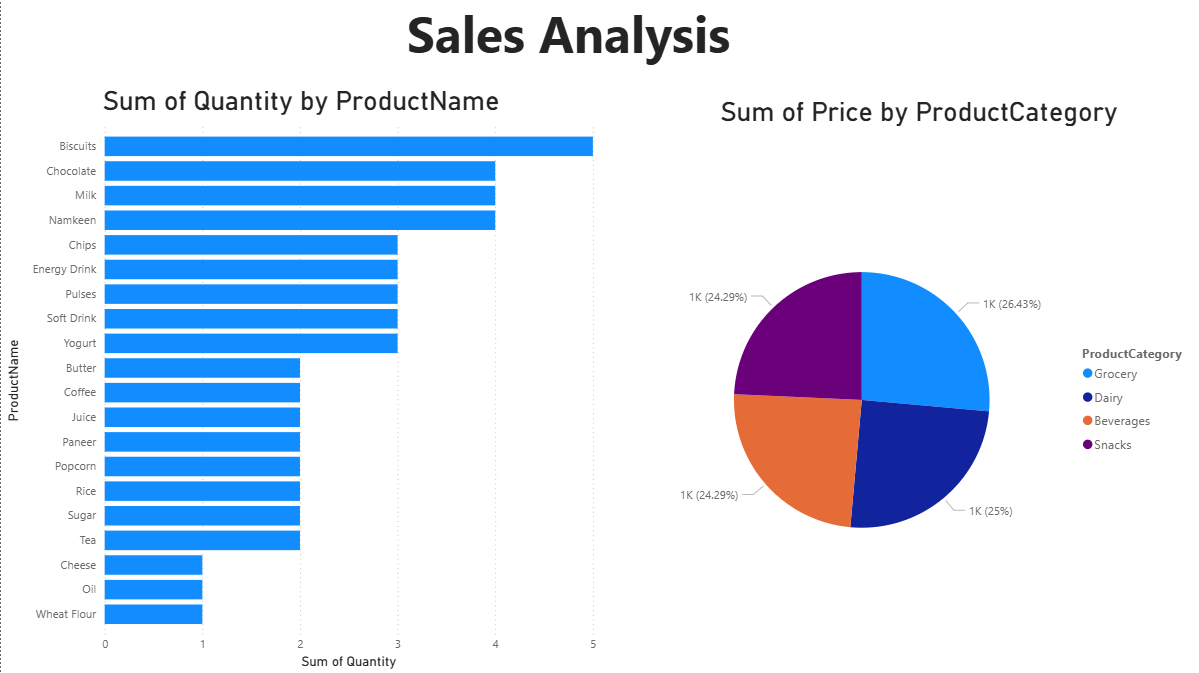

Layout of this report page (visuals, bound fields, positions):
{"tool":"powerbi","page":{"name":"Sales Analysis","canvas":[1280,720],"ordinal":3},"visuals":[{"type":"textbox","title":"Sales Analysis ","box":[104,0,1002.7,280],"z":0},{"type":"pieChart","fields":{"Category":["Sheet1.ProductCategory"],"Y":["Sum(Sheet1.Price)"]},"box":[678.4,102.7,601.4,617.6],"z":1000},{"type":"clusteredBarChart","fields":{"Category":["Sheet1.ProductName"],"Y":["Sum(Sheet1.Quantity)"]},"box":[0,90.5,640.5,629.7],"z":2000}]}

Visuals, with their boxes in screenshot pixels (x1, y1, x2, y2), scaled from the page's 1280x720 canvas onto the 1199x673 screenshot:
"Sales Analysis " textbox: left=97, top=0, right=1037, bottom=262
pieChart - Sheet1.ProductCategory x Sum(Sheet1.Price): left=635, top=96, right=1198, bottom=672
clusteredBarChart - Sheet1.ProductName x Sum(Sheet1.Quantity): left=0, top=85, right=600, bottom=672
